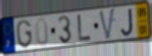0: (34, 17, 50, 48)
3: (58, 15, 73, 45)
G: (16, 19, 34, 50)
J: (120, 8, 134, 38)
L: (76, 14, 92, 43)
V: (98, 7, 116, 42)
